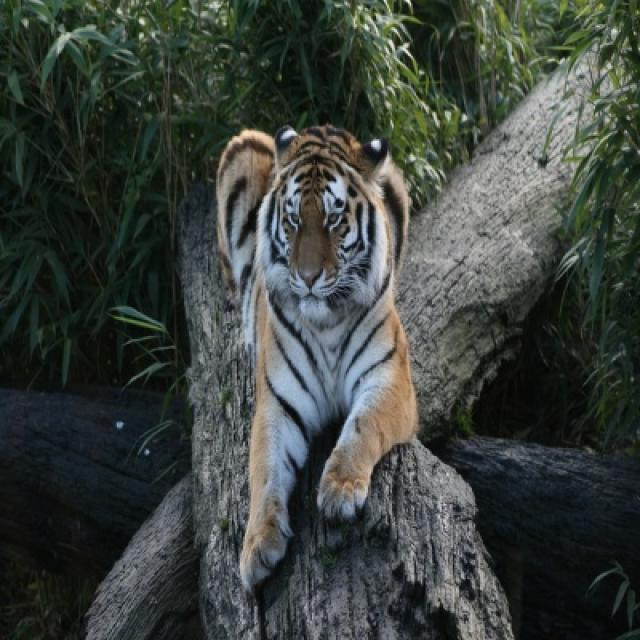Tiger: (218, 125, 416, 590)
